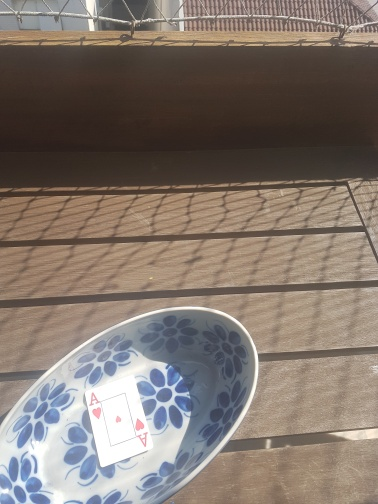ace: (86, 375, 156, 468)
